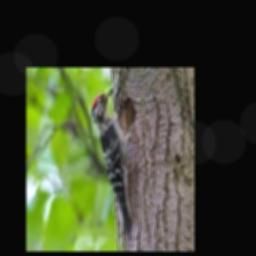Woodpecker: (91, 87, 136, 237)
